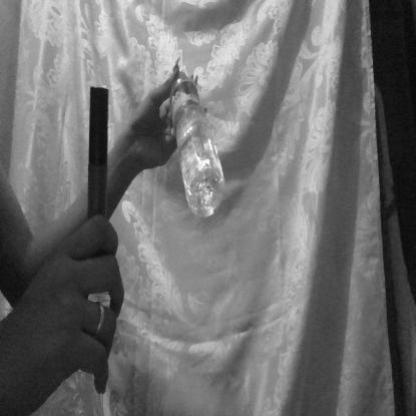Plastic Bottle: (156, 42, 235, 248)
